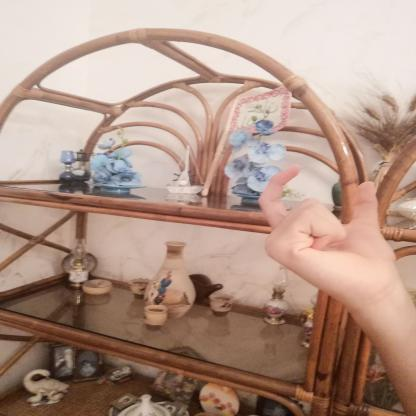NOON: (241, 154, 405, 310)
